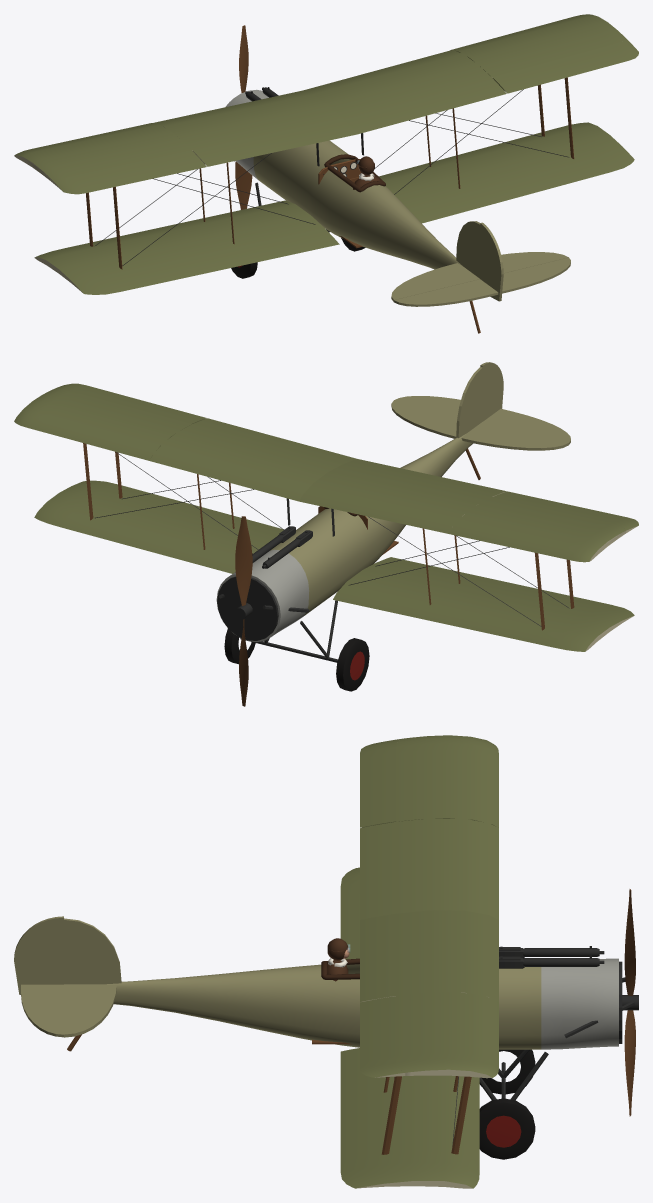
Rendered from spad_xiii.glb.
The picture shows the model from 3 angles, top to bottom: view 1: azimuth 30°, elevation 25°; view 2: azimuth 150°, elevation 25°; view 3: azimuth 270°, elevation 25°; orthographic projection. The views are drawn at different scales.
Visible parts, largest first — view 1: Wing_Upper_R, Wing_Lower_L, Wing_Upper_L, Wing_Lower_R, Fuselage, Aileron_R, Aileron_L, Elevator, Struts, Stabilizer_L, Rudder, Wires (+6 smaller); view 2: Wing_Upper_R, Wing_Upper_L, Wing_Lower_L, Wing_Lower_R, Fuselage, Engine, Elevator, PropBlades, Wheels, Stabilizer_L, Struts, Aileron_R (+7 smaller); view 3: Fuselage, Wing_Upper_L, Wing_Upper_R, Wing_Lower_R, Wheels, Fin, Aileron_L, Rudder, Aileron_R, Stabilizer_R, PropBlades, Guns (+5 smaller).
Part boxes in pixels (<box>): Wing_Upper_R: <box>303,14,625,134</box>; Wing_Lower_L: <box>34,200,339,294</box>; Wing_Upper_L: <box>14,90,356,180</box>; Wing_Lower_R: <box>379,122,634,223</box>; Fuselage: <box>225,89,462,269</box>; Aileron_R: <box>492,38,638,93</box>; Aileron_L: <box>50,150,206,194</box>; Elevator: <box>394,257,570,306</box>; Struts: <box>86,77,574,269</box>; Stabilizer_L: <box>391,263,479,301</box>; Rudder: <box>480,222,503,301</box>; Wires: <box>95,89,569,265</box>; Wing_Upper_R: <box>14,389,356,501</box>; Wing_Upper_L: <box>299,459,625,562</box>; Wing_Lower_L: <box>333,557,634,651</box>; Wing_Lower_R: <box>34,480,283,573</box>; Fuselage: <box>216,434,473,642</box>; Engine: <box>217,576,309,640</box>; Elevator: <box>394,396,570,444</box>; PropBlades: <box>235,516,252,706</box>; Wheels: <box>224,628,369,691</box>; Stabilizer_L: <box>461,422,568,450</box>; Struts: <box>83,443,574,630</box>; Aileron_R: <box>51,383,206,423</box>; Fuselage: <box>106,958,618,1049</box>; Wing_Upper_L: <box>360,735,498,919</box>; Wing_Upper_R: <box>360,910,498,1078</box>; Wing_Lower_R: <box>340,1048,479,1188</box>; Wheels: <box>479,1049,535,1159</box>; Fin: <box>64,918,121,984</box>; Aileron_L: <box>360,738,404,827</box>; Rudder: <box>14,916,63,994</box>; Aileron_R: <box>360,996,405,1077</box>; Stabilizer_R: <box>64,984,116,1037</box>; PropBlades: <box>622,889,638,1116</box>; Guns: <box>499,946,604,968</box>.
Size of the model in its own units: 8.25 by 2.71 by 6.51.
